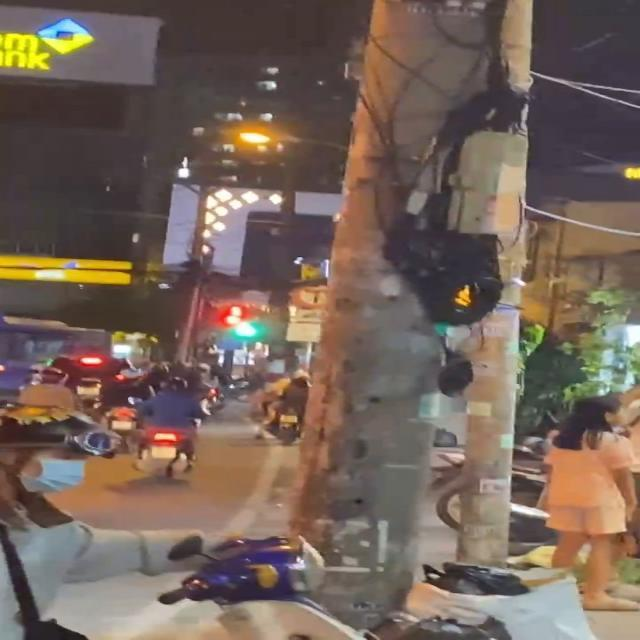137-cam-re-trai-va-re-phai: (292, 282, 336, 308)
